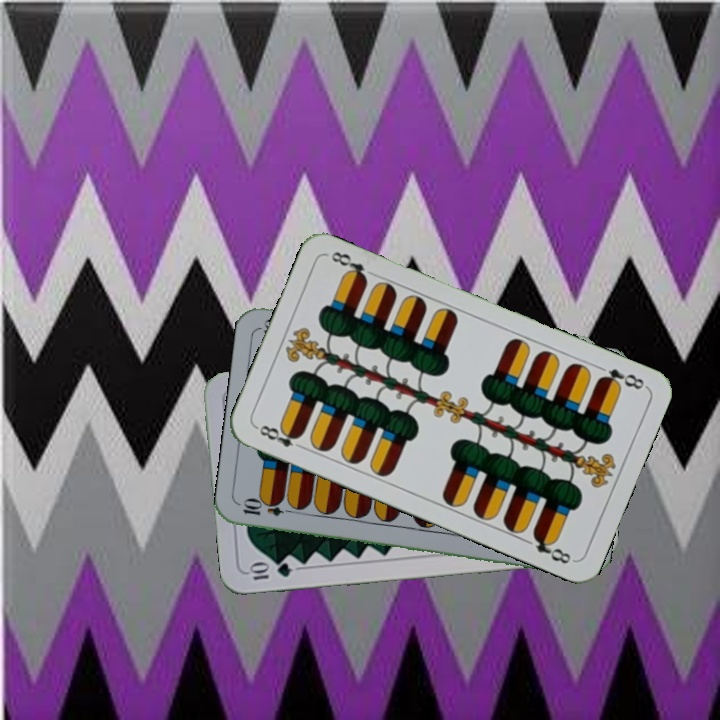E10: (239, 498, 298, 519)
E8: (252, 420, 308, 453), (593, 364, 649, 392)
G10: (245, 559, 294, 583)
